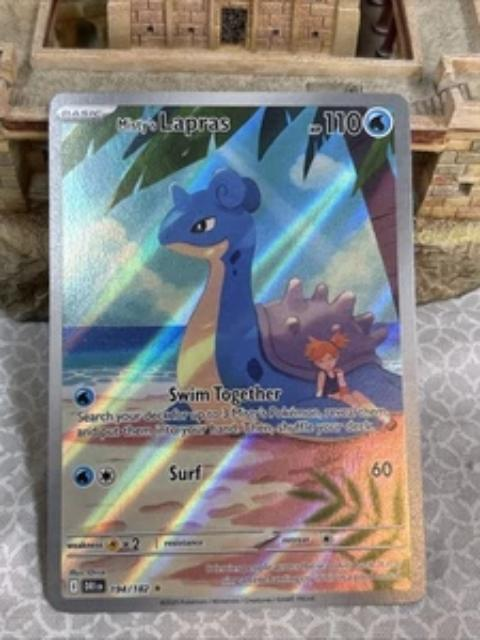Card: (41, 85, 434, 618)
Name: (111, 109, 235, 138)
